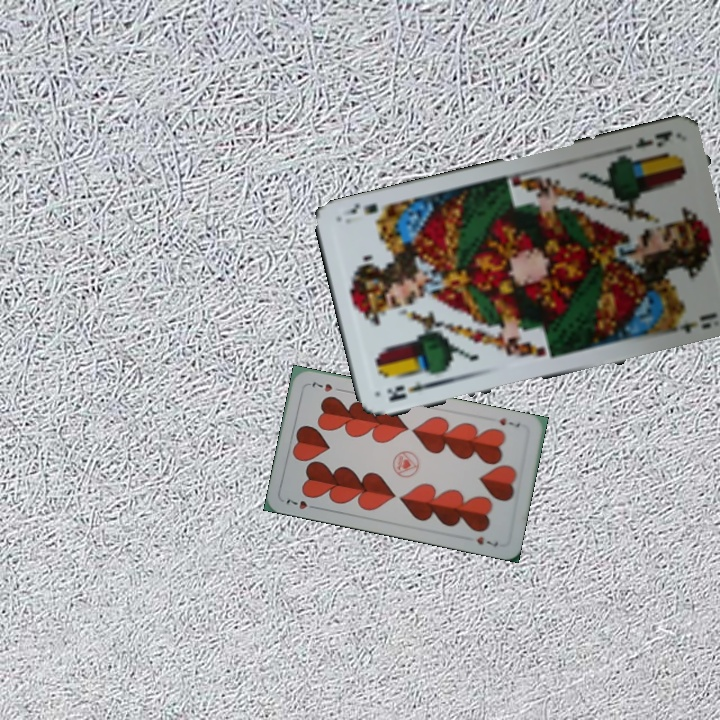EK: (383, 377, 440, 404), (631, 127, 675, 151)
H7: (282, 495, 321, 512), (495, 414, 523, 430)
